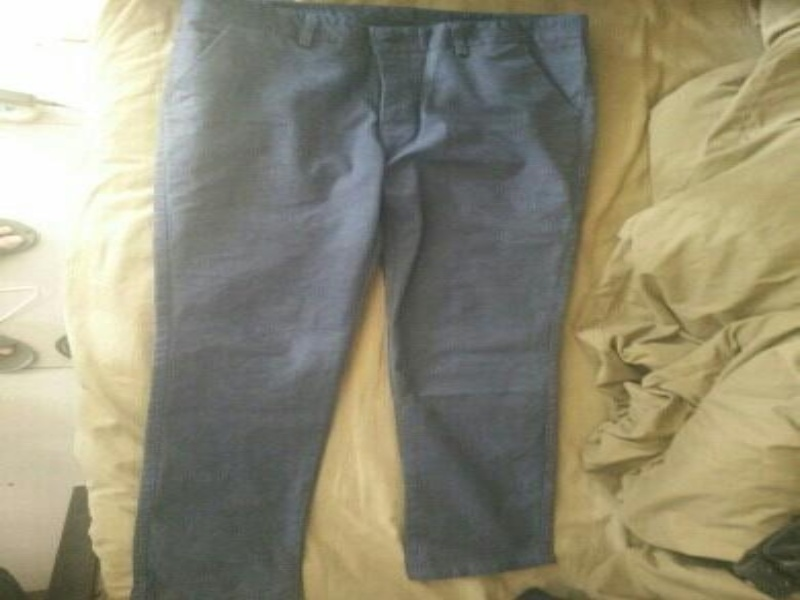trousers: (111, 0, 615, 599)
